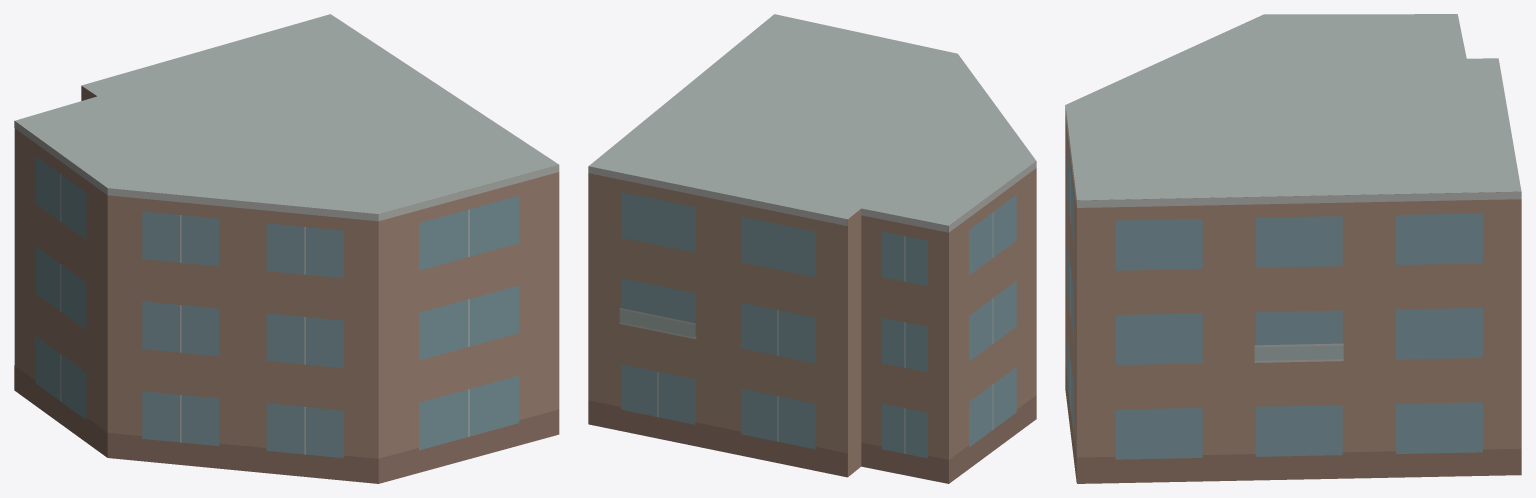
Rendered from survey-upis-32661823.glb.
3 renders of one model, left to right at view 1: azimuth 30°, elevation 25°; view 2: azimuth 150°, elevation 25°; view 3: azimuth 270°, elevation 25°, orthographic. The views are drawn at different scales.
Parts seen in each view (by area): view 1: survey-upis-32661823.tmp; view 2: survey-upis-32661823.tmp; view 3: survey-upis-32661823.tmp.
Boxes of the visible parts, bbox=[...] form: survey-upis-32661823.tmp: bbox=[14, 14, 559, 483]; survey-upis-32661823.tmp: bbox=[588, 14, 1036, 483]; survey-upis-32661823.tmp: bbox=[1065, 14, 1521, 483].
Size of the model in its own units: 12.92 by 9.15 by 13.36.
